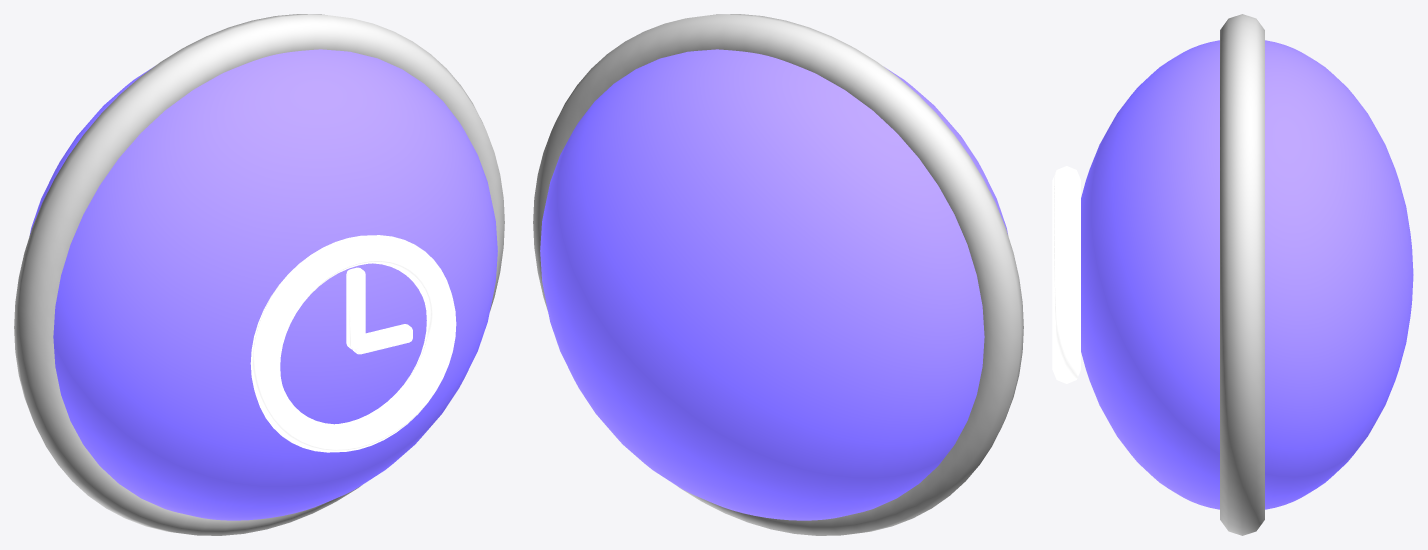
Rendered from bonus_zpomaleni.glb.
The picture shows the model from 3 angles, left to right: view 1: azimuth 30°, elevation 25°; view 2: azimuth 150°, elevation 25°; view 3: azimuth 270°, elevation 25°; orthographic projection. The views are drawn at different scales.
Visible parts, largest first — view 1: bonus_zpomaleni_koule, bonus_zpomaleni_lem, ikona_hodiny, ikona_rucicka_a, ikona_rucicka_b; view 2: bonus_zpomaleni_koule, bonus_zpomaleni_lem; view 3: bonus_zpomaleni_koule, bonus_zpomaleni_lem, ikona_hodiny.
Boxes of the visible parts, x1,y1,x2,y2 form: bonus_zpomaleni_koule: [30, 49, 497, 520]; bonus_zpomaleni_lem: [14, 14, 504, 535]; ikona_hodiny: [250, 235, 456, 452]; ikona_rucicka_a: [346, 267, 365, 349]; ikona_rucicka_b: [353, 324, 412, 354]; bonus_zpomaleni_koule: [540, 49, 1007, 520]; bonus_zpomaleni_lem: [533, 14, 1023, 535]; bonus_zpomaleni_koule: [1081, 40, 1413, 509]; bonus_zpomaleni_lem: [1220, 14, 1264, 535]; ikona_hodiny: [1052, 166, 1080, 383].
Size of the model in its own units: 1.1 by 1.1 by 0.76.
